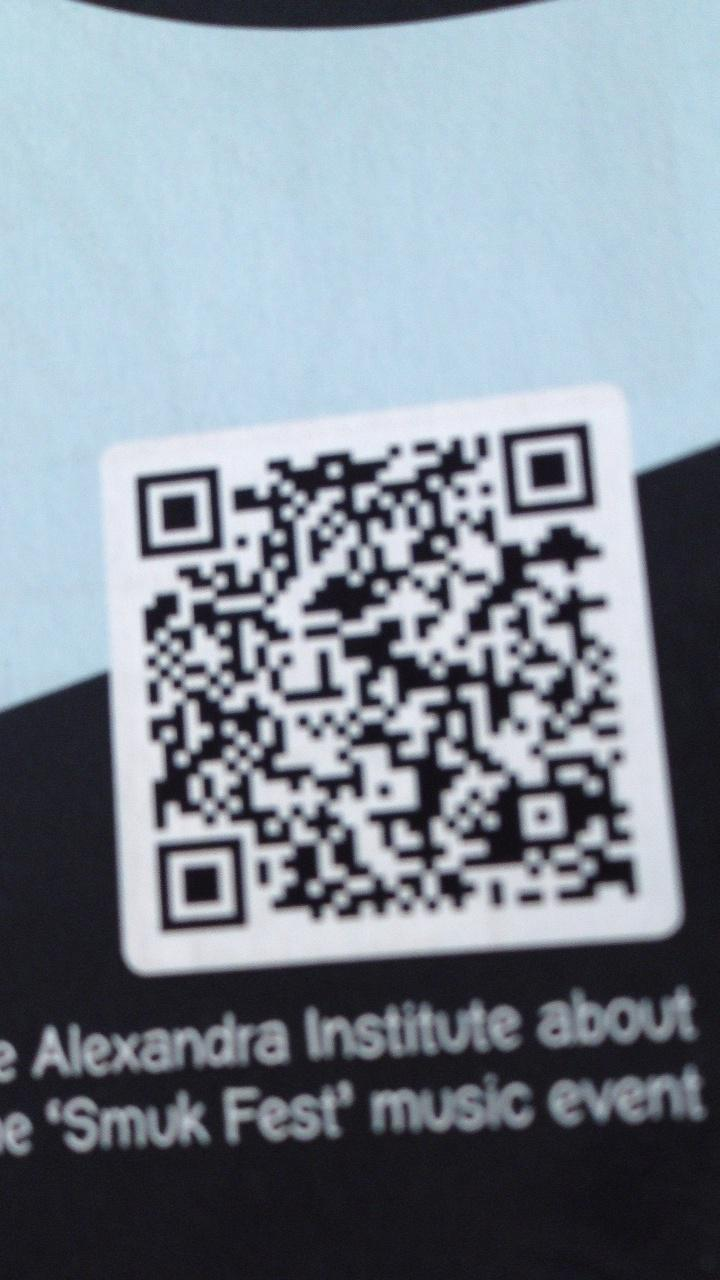Finder pattern: (492, 419, 602, 516), (150, 831, 253, 933), (128, 465, 232, 560)
